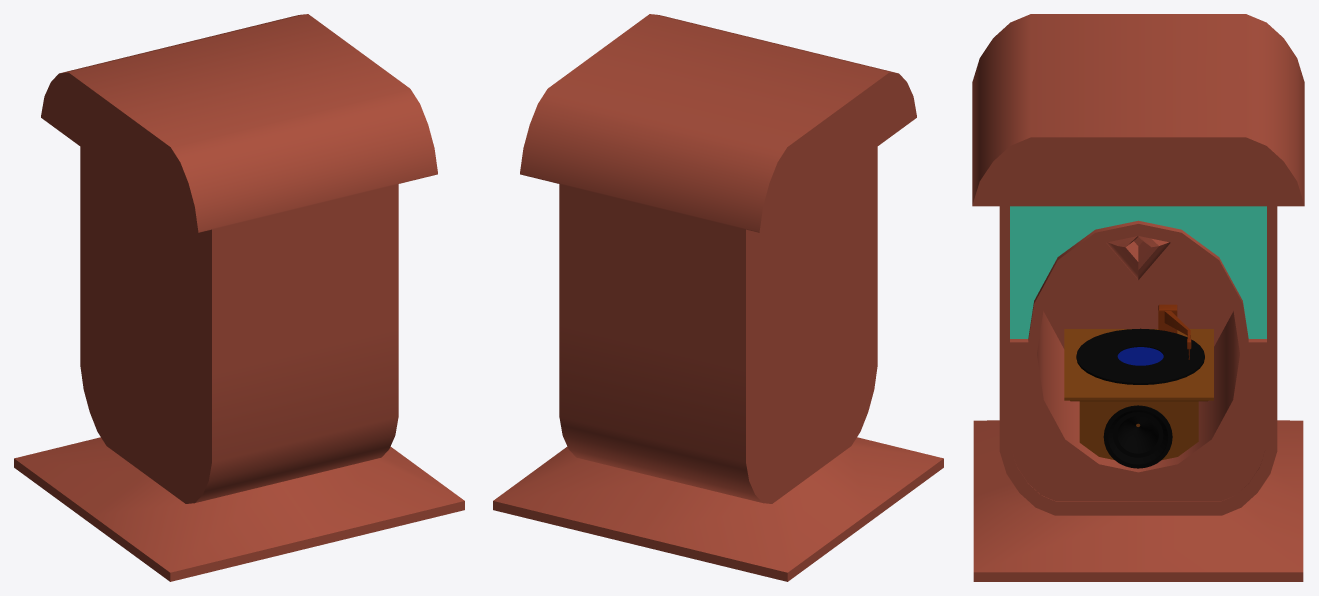
Rendered from misc .fbx.
The picture shows the model from 3 angles, left to right: view 1: azimuth 30°, elevation 25°; view 2: azimuth 150°, elevation 25°; view 3: azimuth 270°, elevation 25°; orthographic projection. The views are drawn at different scales.
Parts seen in each view (by area): view 1: Cube.018; view 2: Cube.018; view 3: Cube.018.
Part boxes in pixels (bbox=[...]): Cube.018: bbox=[14, 14, 464, 581]; Cube.018: bbox=[493, 14, 943, 581]; Cube.018: bbox=[972, 14, 1304, 581].
Bounding box in the file's own units: 775 × 1026 × 717.
